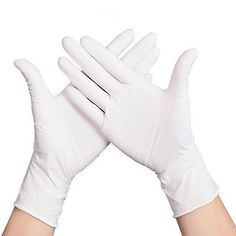gloves: (57, 33, 220, 215), (8, 27, 160, 219)
